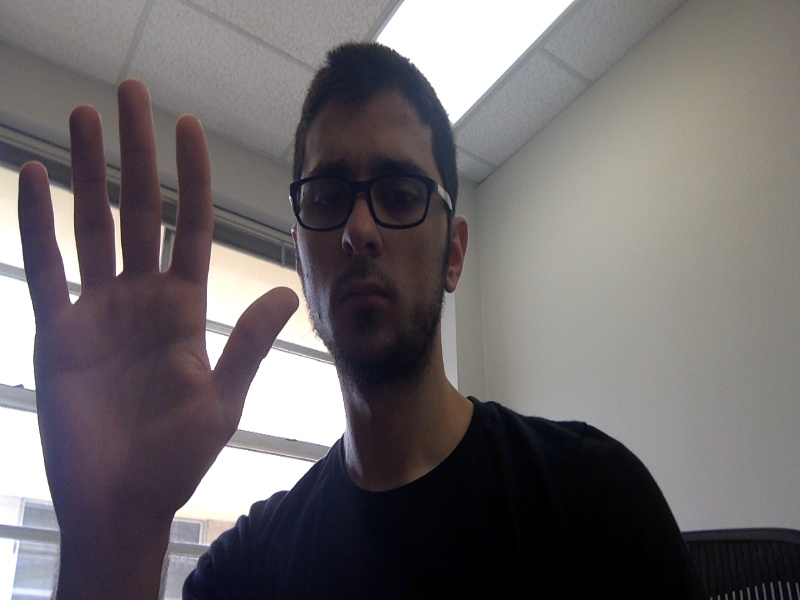5-hand: (18, 80, 292, 529)
